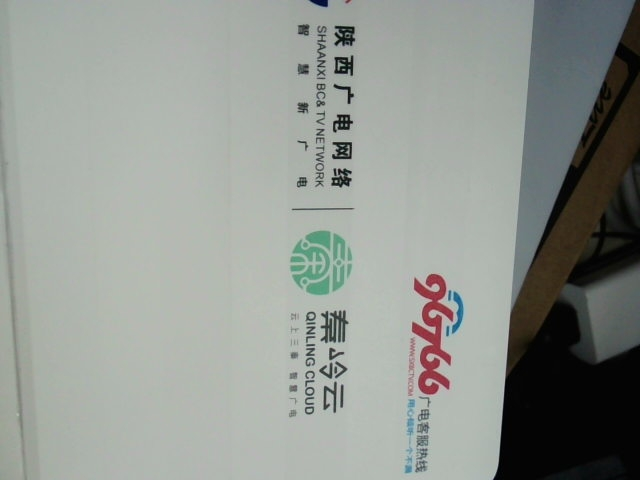AE_QinLing: (270, 219, 372, 431)
